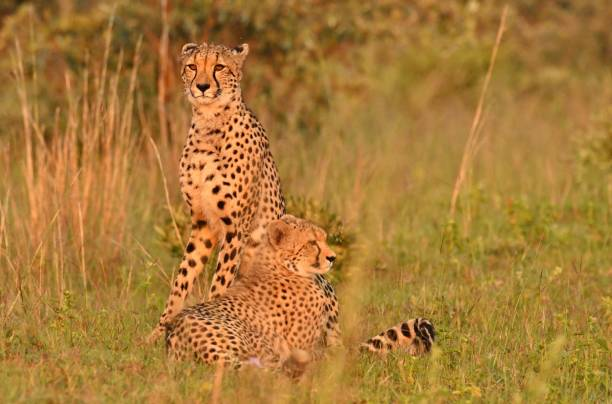cheetah: (176, 35, 258, 109)
